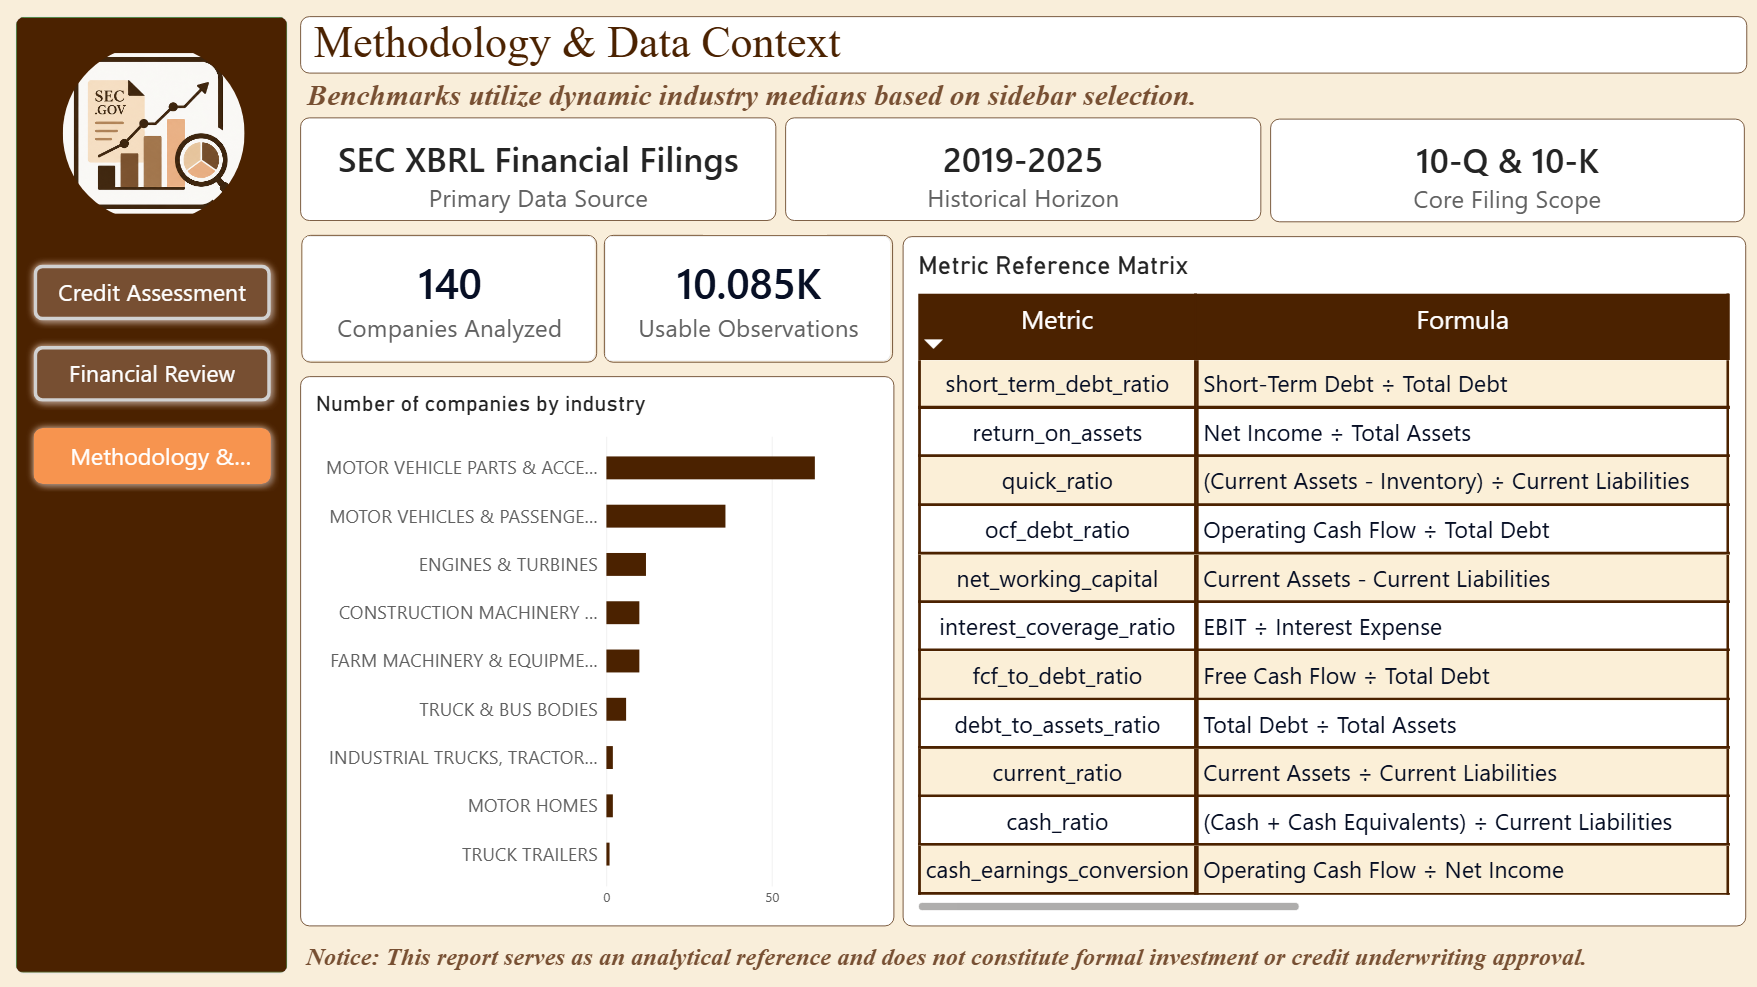

The page's visual inventory and layout, read from the dashboard file:
{"tool":"powerbi","page":{"name":"Methodology & Data Context","canvas":[1920,1080],"ordinal":2},"visuals":[{"type":"shape","box":[18.2,18.2,298,1044.7],"z":0},{"type":"pageNavigator","box":[29.1,279.8,278,259.8],"z":1000},{"type":"pivotTable","title":"Metric Reference Matrix","fields":{"Rows":["dim_metric_glossary.Metric"],"Values":["Min(dim_metric_glossary.Formula)","Min(dim_metric_glossary.Dashboard Handling of Nulls)"]},"box":[986.4,257.7,919.9,752.9],"z":2000},{"type":"image","box":[69,49.1,198,192.6],"z":3000},{"type":"textbox","box":[328.1,18.1,1578.2,62.4],"z":4000},{"type":"textbox","box":[328.1,128.8,519.4,112.7],"z":5000},{"type":"textbox","box":[328.8,67.2,1355.3,83.6],"z":6000},{"type":"textbox","box":[857.5,128.8,519.4,112.7],"z":7000},{"type":"textbox","box":[1387.5,130,517.5,112.5],"z":8000},{"type":"textbox","box":[328.1,1010.5,1578.2,70.5],"z":9000},{"type":"cardVisual","fields":{"Data":["Count(gold_dim_filing.company_id)"]},"box":[329.4,257,322.1,139.3],"z":10000},{"type":"cardVisual","fields":{"Data":["Count(gold_fact_financial_metrics.Filing_Key)"]},"box":[660.5,257,314.9,139.3],"z":11000},{"type":"clusteredBarChart","title":"Number of companies by industry","fields":{"Category":["gold_dim_filing.industry_name"],"Y":["Count(gold_dim_filing.company_id)"]},"box":[328,410,648,600],"z":12000}]}

Visuals, with their boxes in screenshot pixels (x1, y1, x2, y2), scaled from the page's 1920x1080 canvas onto the 1757x987 screenshot:
shape: bbox=[17, 17, 289, 971]
pageNavigator: bbox=[27, 256, 281, 493]
"Metric Reference Matrix" pivotTable: bbox=[903, 236, 1744, 924]
image: bbox=[63, 45, 244, 221]
textbox: bbox=[300, 17, 1744, 74]
textbox: bbox=[300, 118, 776, 221]
textbox: bbox=[301, 61, 1541, 138]
textbox: bbox=[785, 118, 1260, 221]
textbox: bbox=[1270, 119, 1743, 222]
textbox: bbox=[300, 923, 1744, 986]
cardVisual - Count(gold_dim_filing.company_id): bbox=[301, 235, 596, 362]
cardVisual - Count(gold_fact_financial_metrics.Filing_Key): bbox=[604, 235, 893, 362]
"Number of companies by industry" clusteredBarChart: bbox=[300, 375, 893, 923]
